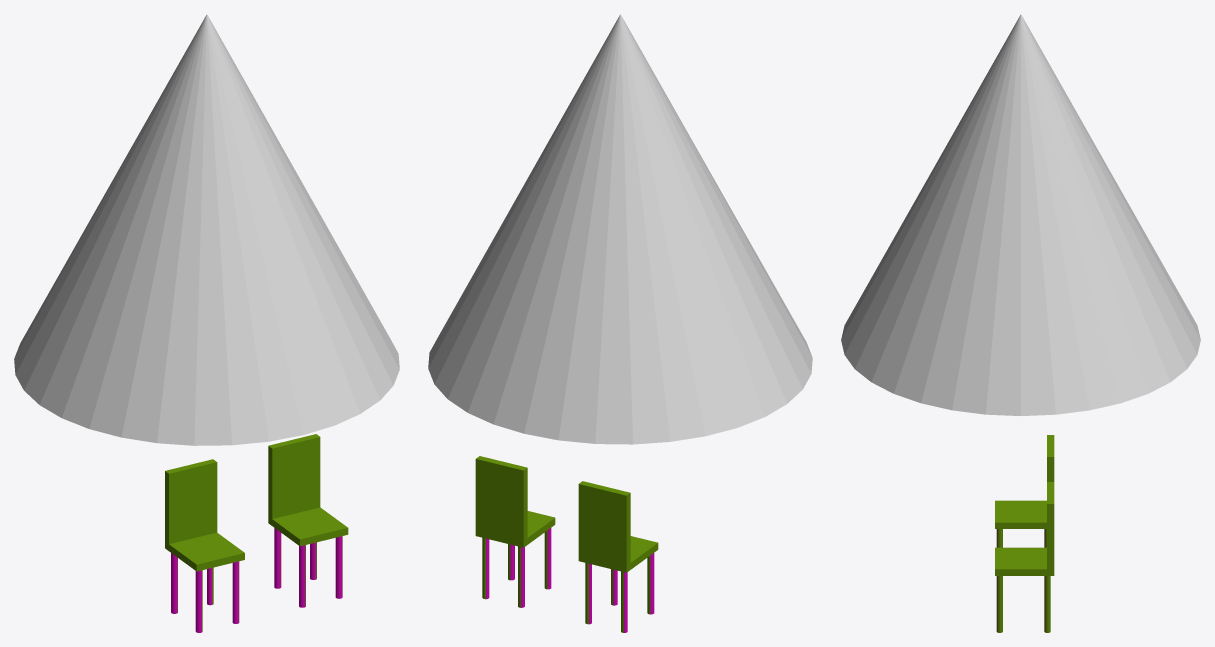
Rendered from chair.glb.
3 views of the same model, side by side, from view 1: azimuth 30°, elevation 25°; view 2: azimuth 150°, elevation 25°; view 3: azimuth 270°, elevation 25° (orthographic). The views are drawn at different scales.
Parts seen in each view (by area): view 1: Cone, worse_chair, chair; view 2: Cone, worse_chair, chair; view 3: Cone, worse_chair, chair.
Boxes of the visible parts, x1,y1,x2,y2 form: Cone: (14, 14, 399, 445); worse_chair: (268, 434, 348, 607); chair: (165, 459, 244, 632); Cone: (428, 14, 812, 444); worse_chair: (475, 456, 555, 607); chair: (578, 481, 658, 632); Cone: (841, 14, 1200, 415); worse_chair: (995, 482, 1054, 632); chair: (995, 435, 1054, 547).
Size of the model in its own units: 2 by 3.45 by 2.
